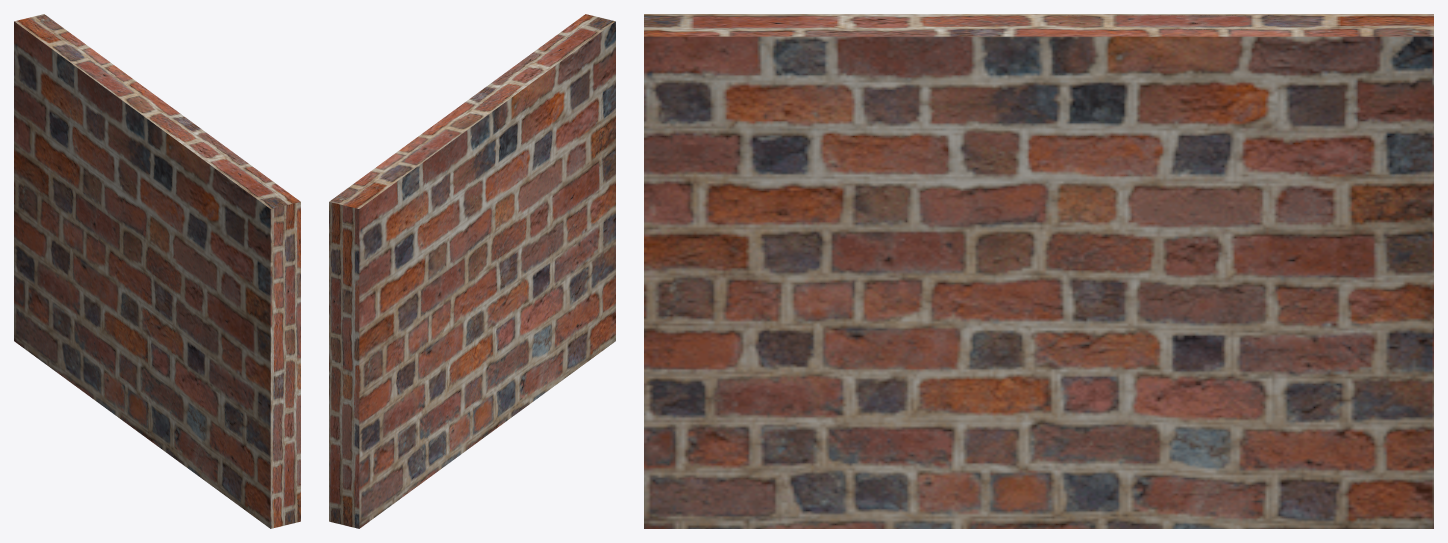
The model's file is Broken Together wall.fbx.
3 renders of one model, left to right at view 1: azimuth 30°, elevation 25°; view 2: azimuth 150°, elevation 25°; view 3: azimuth 270°, elevation 25°, orthographic. The views are drawn at different scales.
Visible parts, largest first — view 1: Cube, Cube_cell.001_cell, Cube_cell_cell.004, Cube_cell.005, Cube_cell_cell.003, Cube_cell.001_cell.003, Cube_cell.001_cell.002, Cube_cell.004_cell.007, Cube_cell.004_cell.004, Cube_cell_cell, Cube_cell_cell.002, Cube_cell.004_cell (+4 smaller); view 2: Cube, Cube_cell_cell.004, Cube_cell.001_cell, Cube_cell.004_cell, Cube_cell_cell.003, Cube_cell.001_cell.003, Cube_cell.004_cell.004, Cube_cell.001_cell.002, Cube_cell.003; view 3: Cube, Cube_cell_cell.004, Cube_cell.005, Cube_cell_cell.003, Cube_cell.001_cell.002, Cube_cell.001_cell.003, Cube_cell.004_cell.007, Cube_cell_cell, Cube_cell.004_cell.004, Cube_cell.004_cell, Cube_cell.001_cell, Cube_cell.004_cell.005 (+3 smaller).
Boxes of the visible parts, box(x1,y1,x2,y2) form: Cube: box(14, 18, 300, 528); Cube_cell.001_cell: box(142, 117, 300, 327); Cube_cell_cell.004: box(14, 14, 106, 263); Cube_cell.005: box(111, 322, 270, 528); Cube_cell_cell.003: box(58, 41, 150, 220); Cube_cell.001_cell.003: box(195, 309, 270, 491); Cube_cell.001_cell.002: box(139, 210, 205, 394); Cube_cell.004_cell.007: box(57, 271, 126, 384); Cube_cell.004_cell.004: box(14, 199, 62, 313); Cube_cell_cell: box(75, 220, 139, 324); Cube_cell_cell.002: box(103, 204, 141, 321); Cube_cell.004_cell: box(14, 279, 60, 372); Cube: box(329, 14, 615, 528); Cube_cell_cell.004: box(329, 175, 450, 386); Cube_cell.001_cell: box(515, 21, 615, 233); Cube_cell.004_cell: box(329, 442, 403, 528); Cube_cell_cell.003: box(366, 121, 488, 240); Cube_cell.001_cell.003: box(548, 124, 615, 312); Cube_cell.004_cell.004: box(329, 375, 402, 464); Cube_cell.001_cell.002: box(485, 222, 548, 326); Cube_cell.003: box(336, 189, 386, 228); Cube: box(644, 14, 1433, 528); Cube_cell_cell.004: box(1174, 14, 1433, 335); Cube_cell.005: box(644, 354, 1142, 528); Cube_cell_cell.003: box(1034, 14, 1320, 215); Cube_cell.001_cell.002: box(835, 155, 1045, 402); Cube_cell.001_cell.003: box(644, 174, 869, 457); Cube_cell.004_cell.007: box(1083, 347, 1299, 515); Cube_cell_cell: box(1044, 214, 1277, 369); Cube_cell.004_cell.004: box(1294, 312, 1433, 445); Cube_cell.004_cell: box(1290, 441, 1433, 528); Cube_cell.001_cell: box(644, 37, 1035, 267); Cube_cell.004_cell.005: box(1225, 319, 1375, 431).
Size of the model in its own units: 70.33 by 711 by 1034.
1 material, 1 textured.
